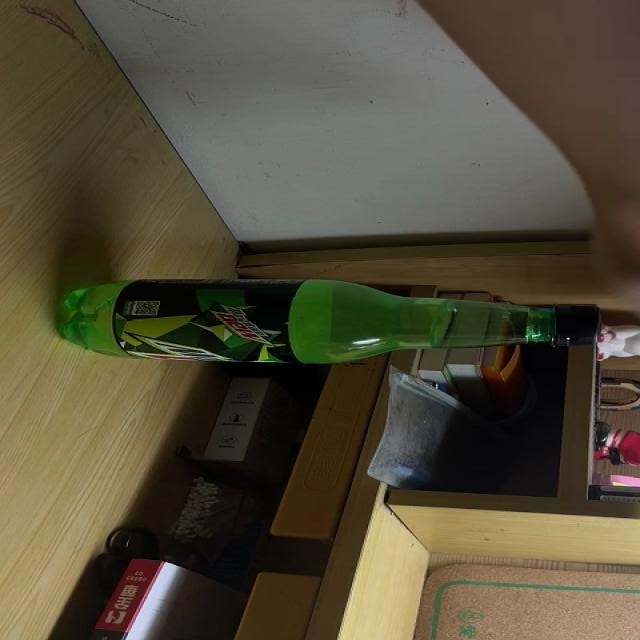Mountain-Dew: (59, 279, 604, 366)
